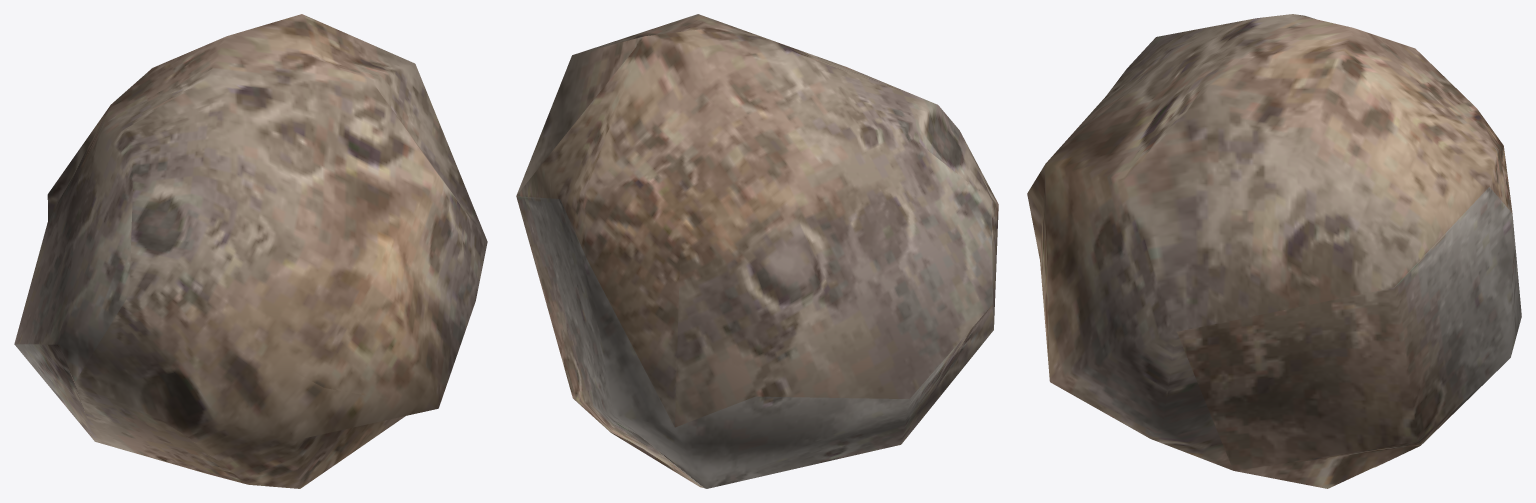
Rendered from asteroid_01.glb.
The picture shows the model from 3 angles, left to right: view 1: azimuth 30°, elevation 25°; view 2: azimuth 150°, elevation 25°; view 3: azimuth 270°, elevation 25°; orthographic projection. The views are drawn at different scales.
Parts seen in each view (by area): view 1: Asteroid_01_LOD0; view 2: Asteroid_01_LOD0; view 3: Asteroid_01_LOD0.
Part boxes in pixels (x1,y1,x2,y2): Asteroid_01_LOD0: (14, 14, 487, 488); Asteroid_01_LOD0: (516, 14, 998, 488); Asteroid_01_LOD0: (1027, 14, 1521, 488).
Size of the model in its own units: 2.68 by 2.69 by 2.62.
Materials: 1 (1 with a texture image).
